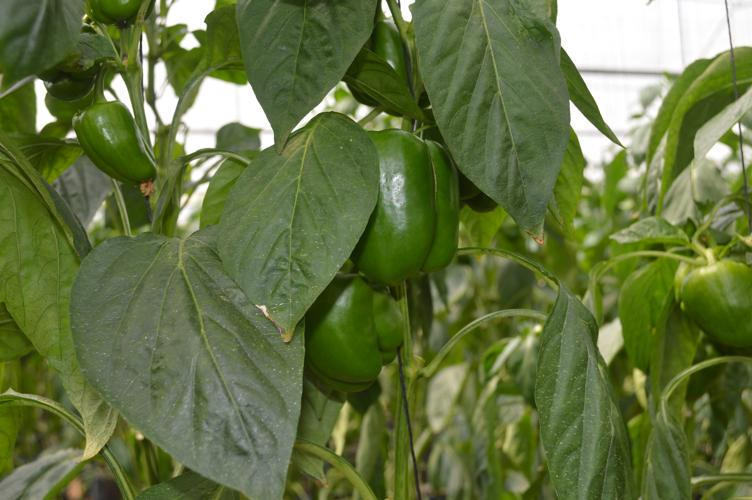BellPepper: (343, 129, 463, 281), (302, 282, 409, 386), (73, 99, 160, 188), (673, 260, 746, 351)
